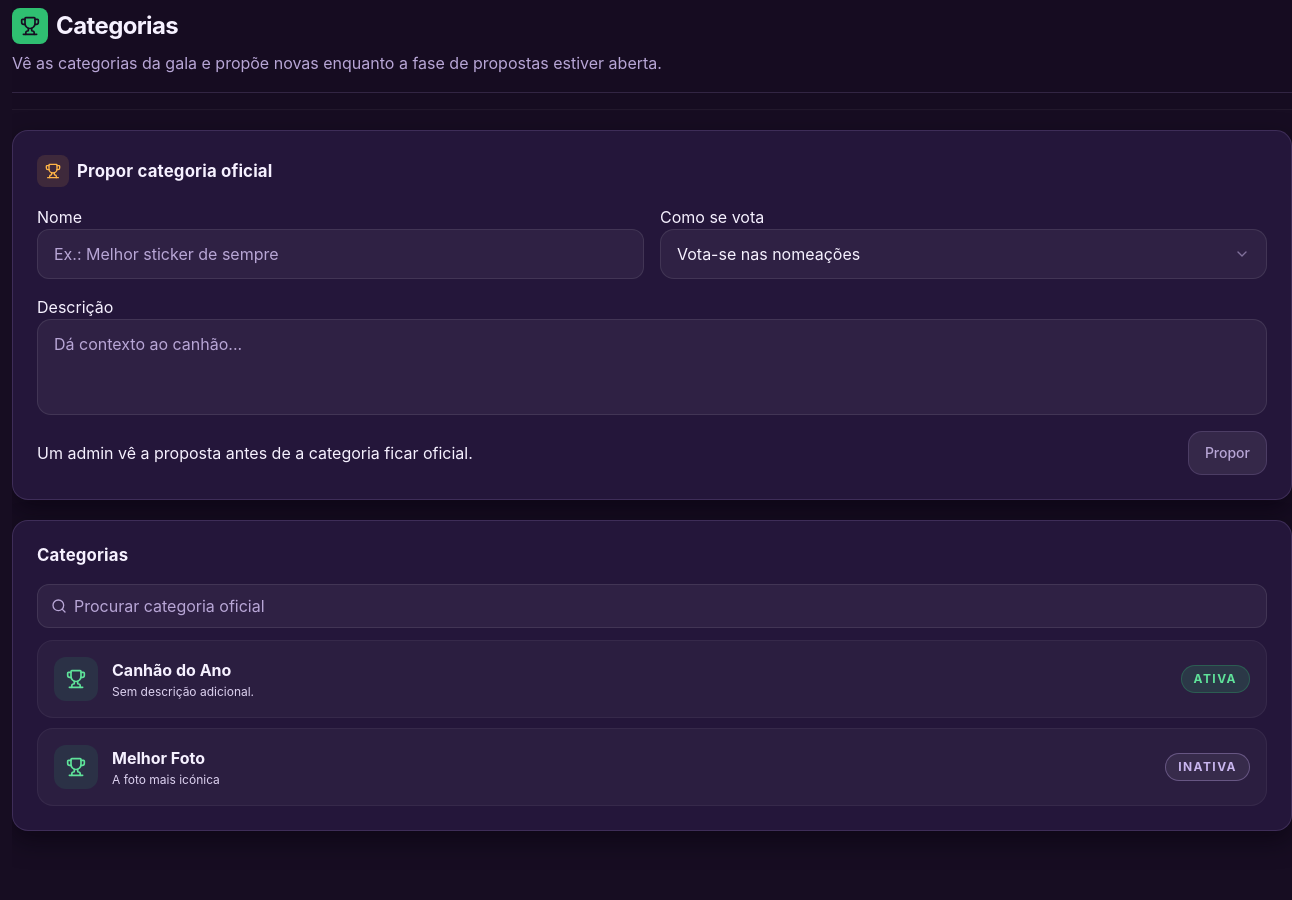
Test: CanhoesCategoriesModule › keeps the form and warns when the proposal fails
Type "Melhor sticker" into the field labelled "Nome". click: (340, 254)
box: [37,229,644,279]
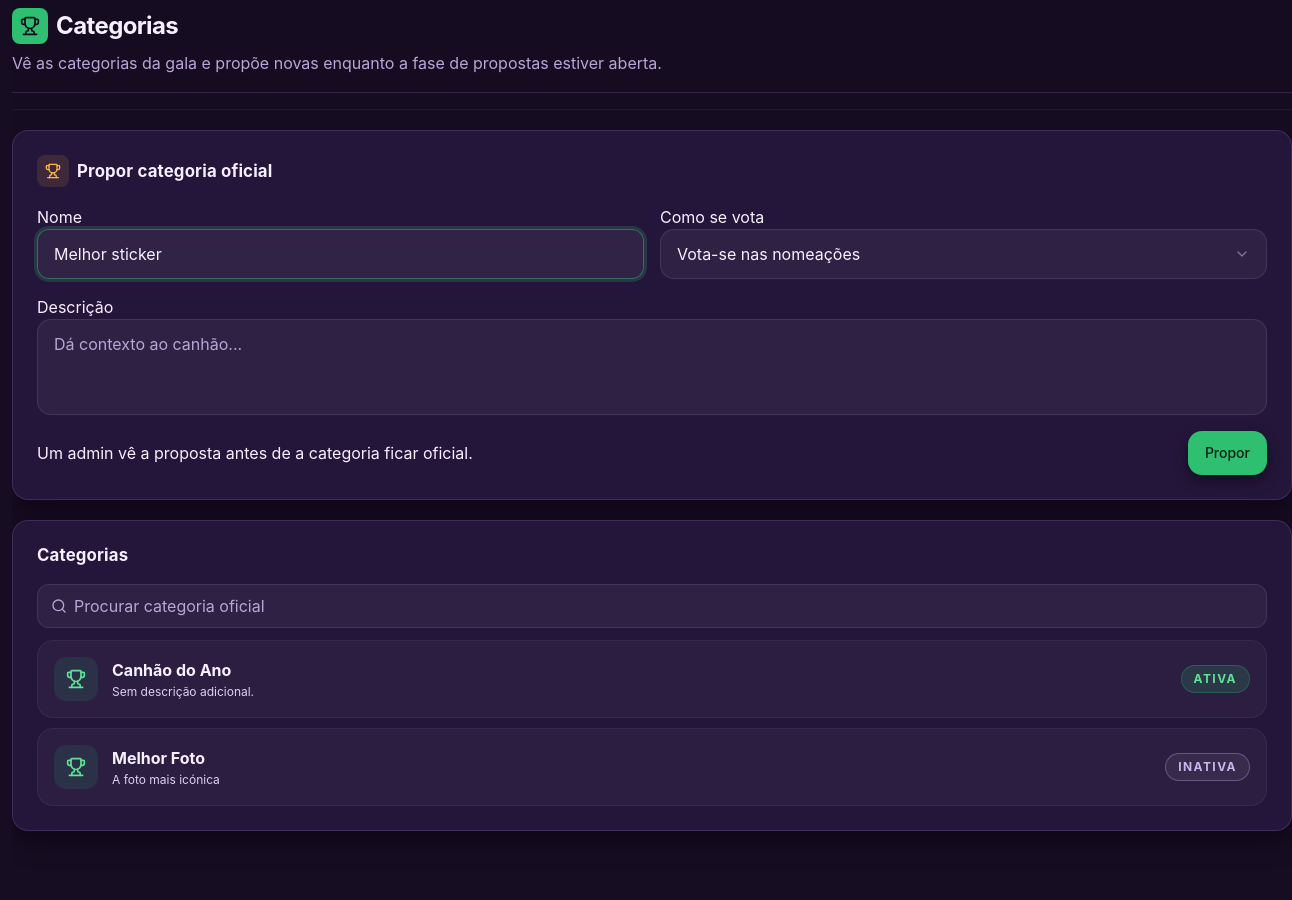
Click the button "Propor". click: click(1227, 453)
box: [1188,431,1267,475]
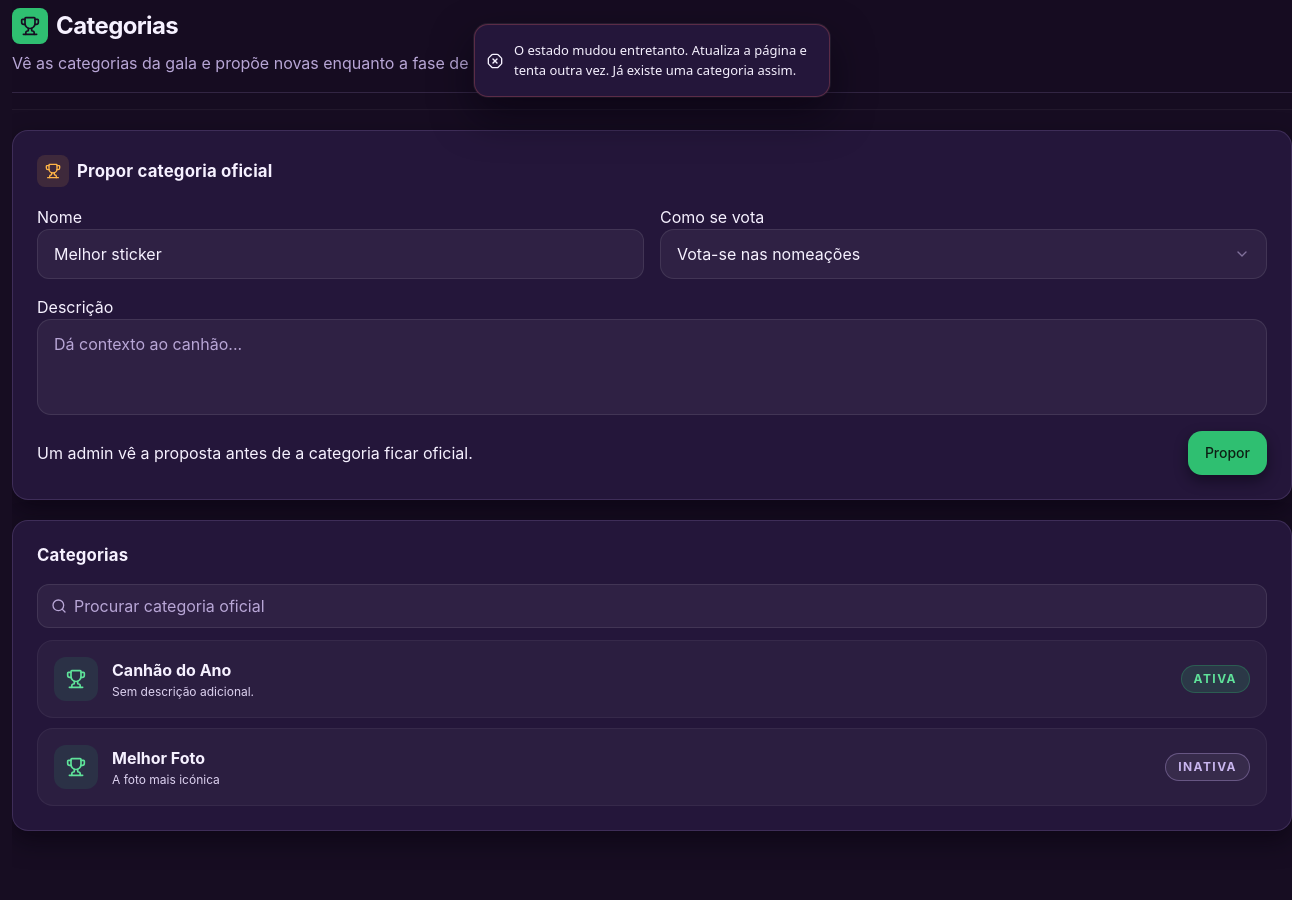
Now the text "Já existe uma categoria assim" is shown, box [514,41,807,78]
